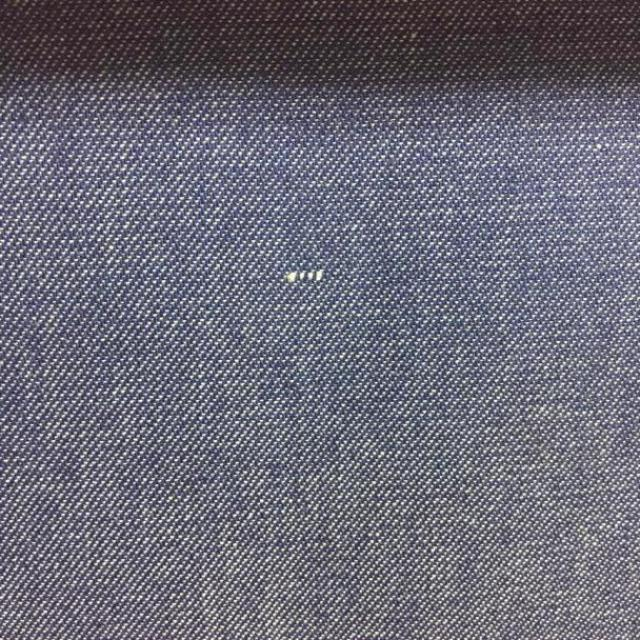Knot: (284, 271, 325, 283)
